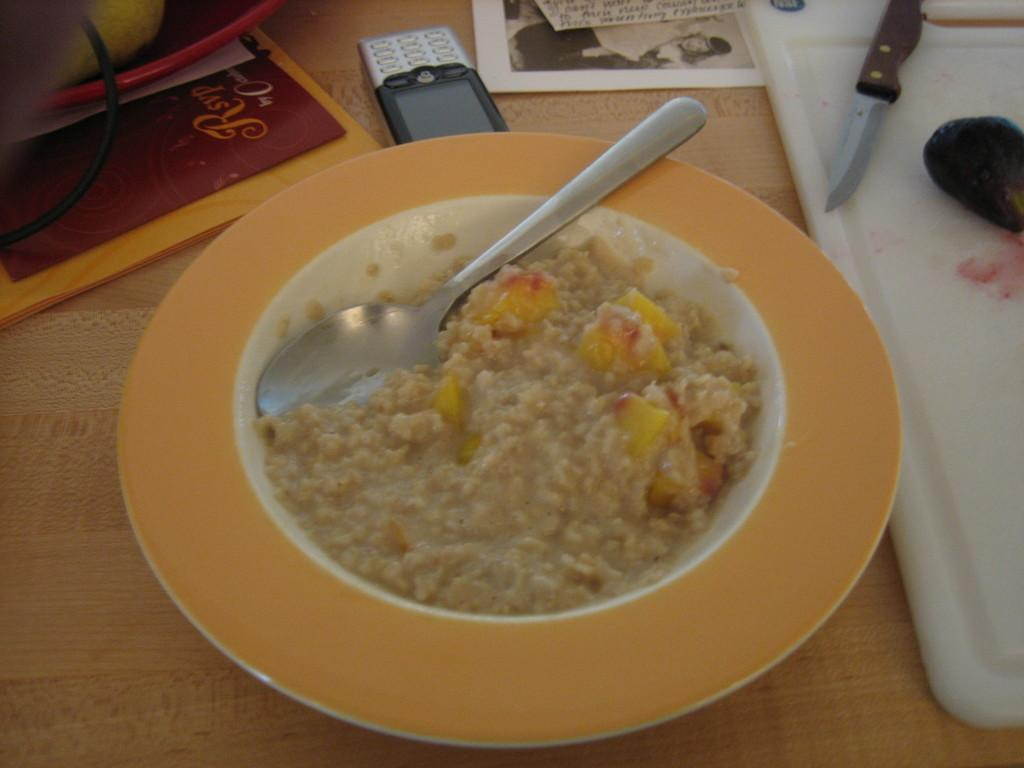Knife: (826, 0, 923, 214)
